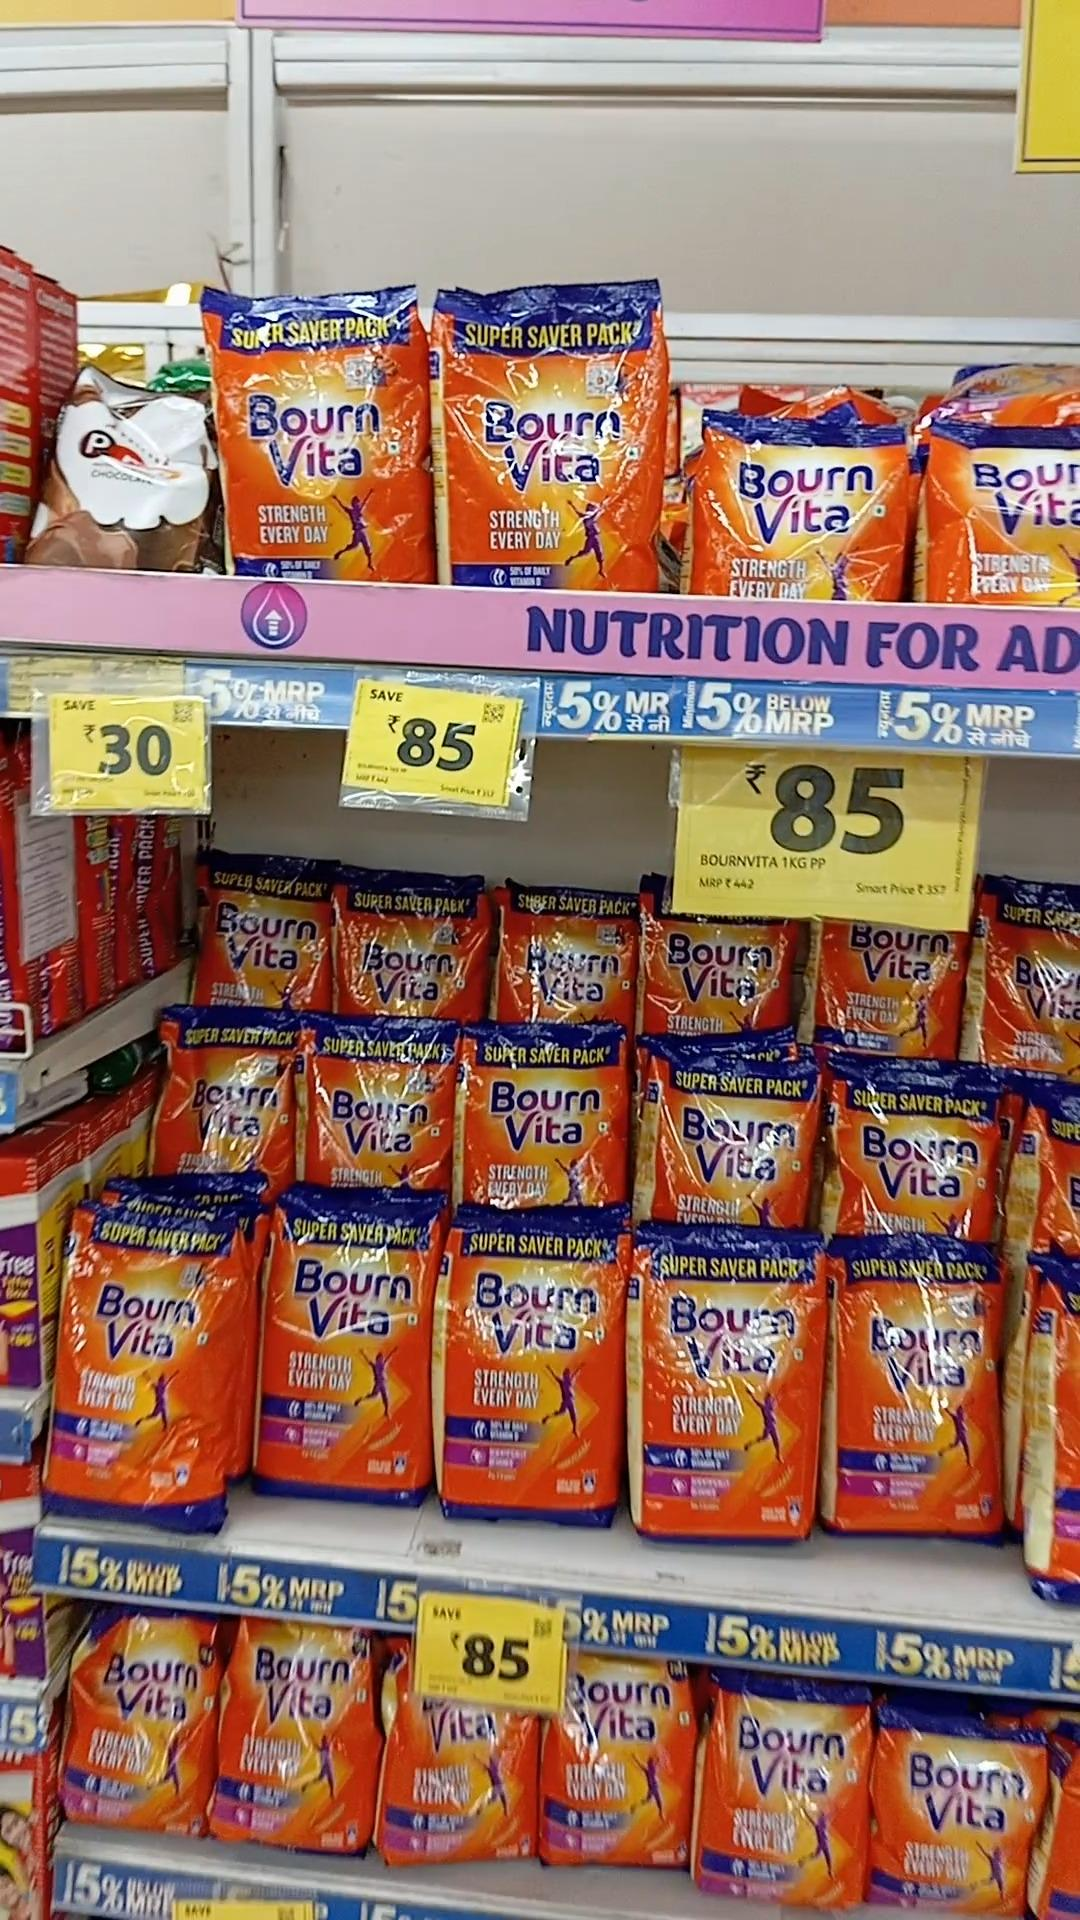BOURN_VITA_1_KG_POUCH: (435, 285, 657, 591), (211, 295, 423, 575), (57, 1208, 232, 1528), (638, 1232, 819, 1542), (436, 1217, 617, 1523), (837, 1236, 1005, 1539), (266, 1191, 429, 1503), (459, 1022, 628, 1205), (647, 1042, 814, 1222), (832, 1054, 996, 1229), (301, 1010, 446, 1184), (160, 1007, 287, 1176), (332, 869, 481, 1001), (200, 852, 323, 1004)
BOURN_VITA_500_G_POUCH: (694, 409, 907, 603), (699, 1660, 862, 1903), (876, 1701, 1021, 1915)
BOURN_VITA_750_G_POUCH: (550, 1648, 691, 1871), (220, 1621, 356, 1851), (66, 1615, 208, 1832), (381, 1687, 533, 1863)
